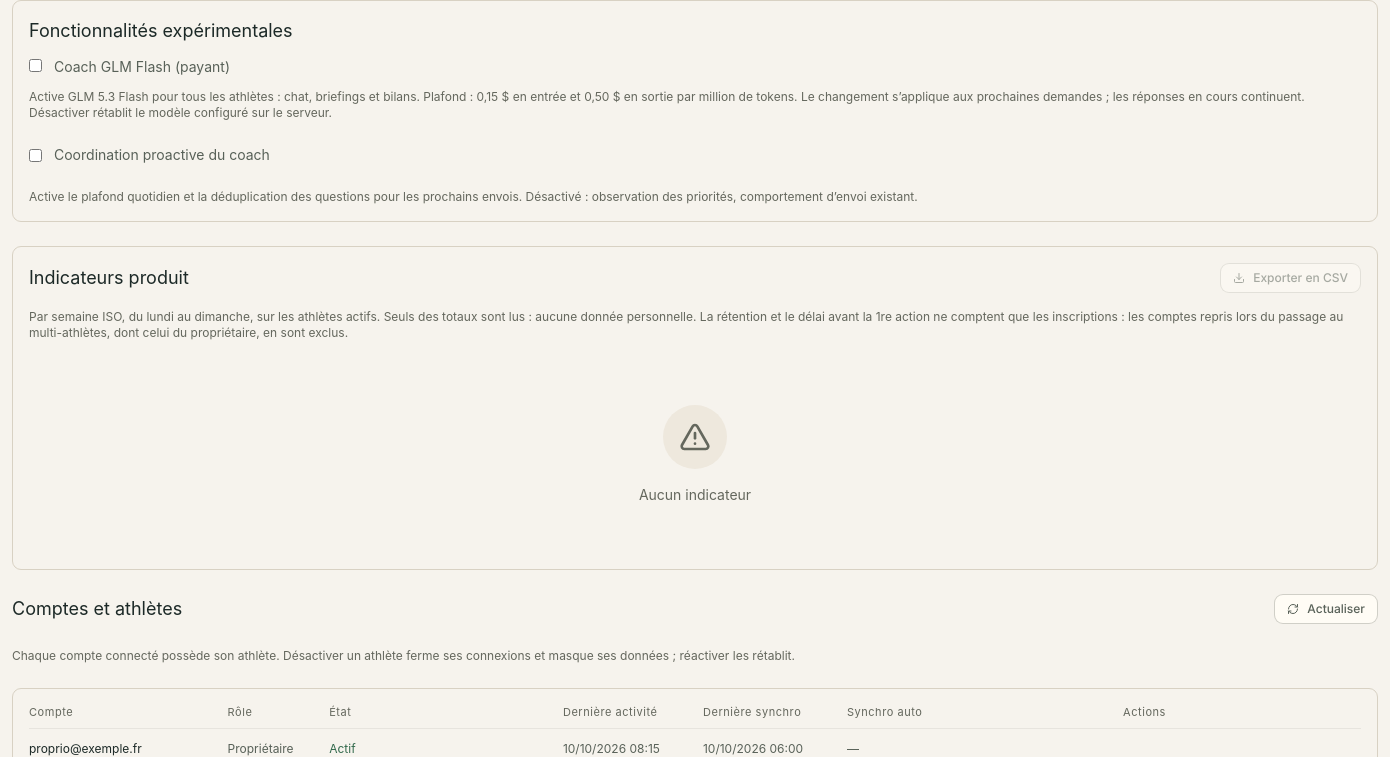
Test: keeps the saved flag and displays a failed update
Click the checkbox labelled "Coach GLM Flash (payant)": coordinates (36, 66) x1=29 y1=59 x2=42 y2=72
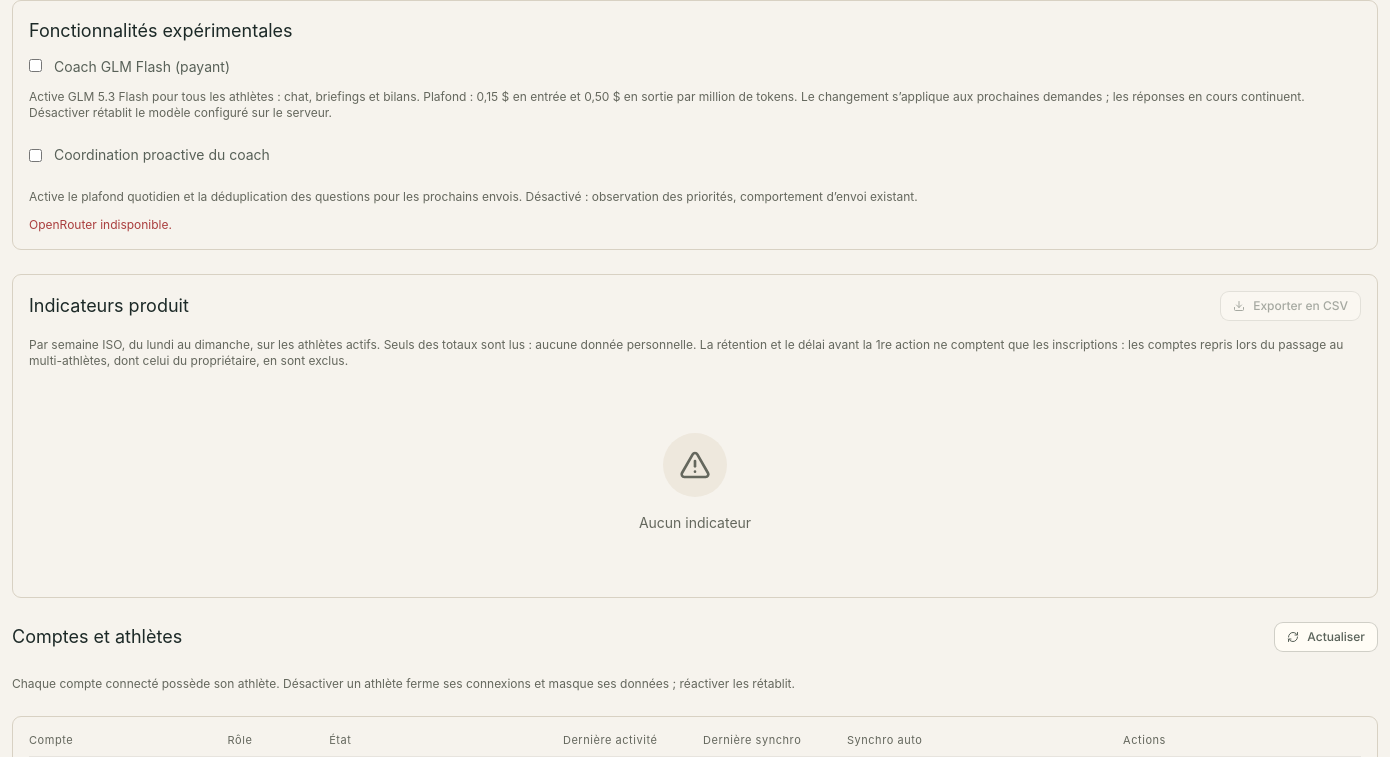
Check: the message reads "OpenRouter indisponible.", box x1=29 y1=217 x2=172 y2=232
